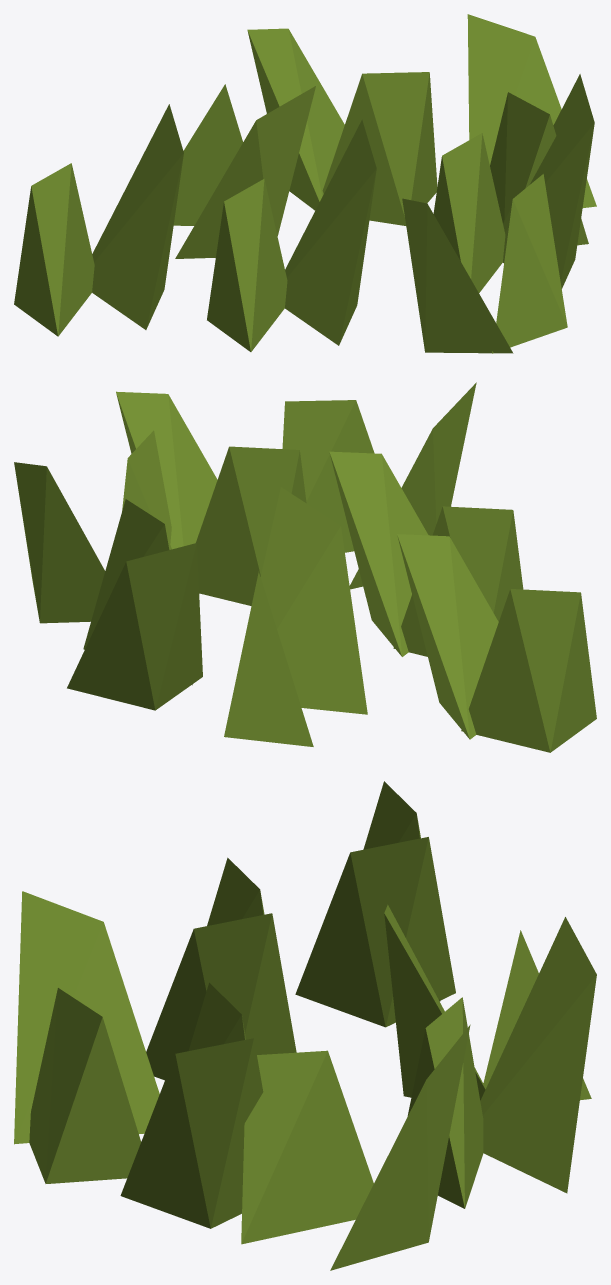
The model's file is short-grass.glb.
The picture shows the model from 3 angles, top to bottom: view 1: azimuth 30°, elevation 25°; view 2: azimuth 150°, elevation 25°; view 3: azimuth 270°, elevation 25°; orthographic projection. The views are drawn at different scales.
Visible parts, largest first — view 1: Sketchup; view 2: Sketchup; view 3: Sketchup.
Part boxes in pixels (bbox=[...]): Sketchup: bbox=[14, 14, 596, 353]; Sketchup: bbox=[14, 382, 596, 752]; Sketchup: bbox=[14, 781, 596, 1270].
Bounding box in the file's own units: 1.19 × 0.3505 × 0.9072.
